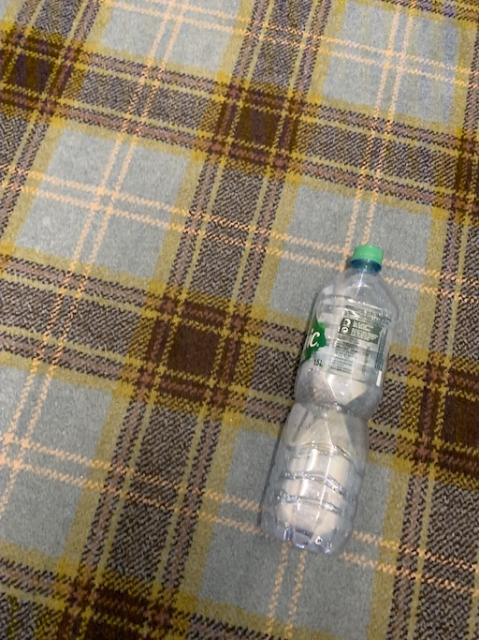plastic: (260, 244, 396, 552)
